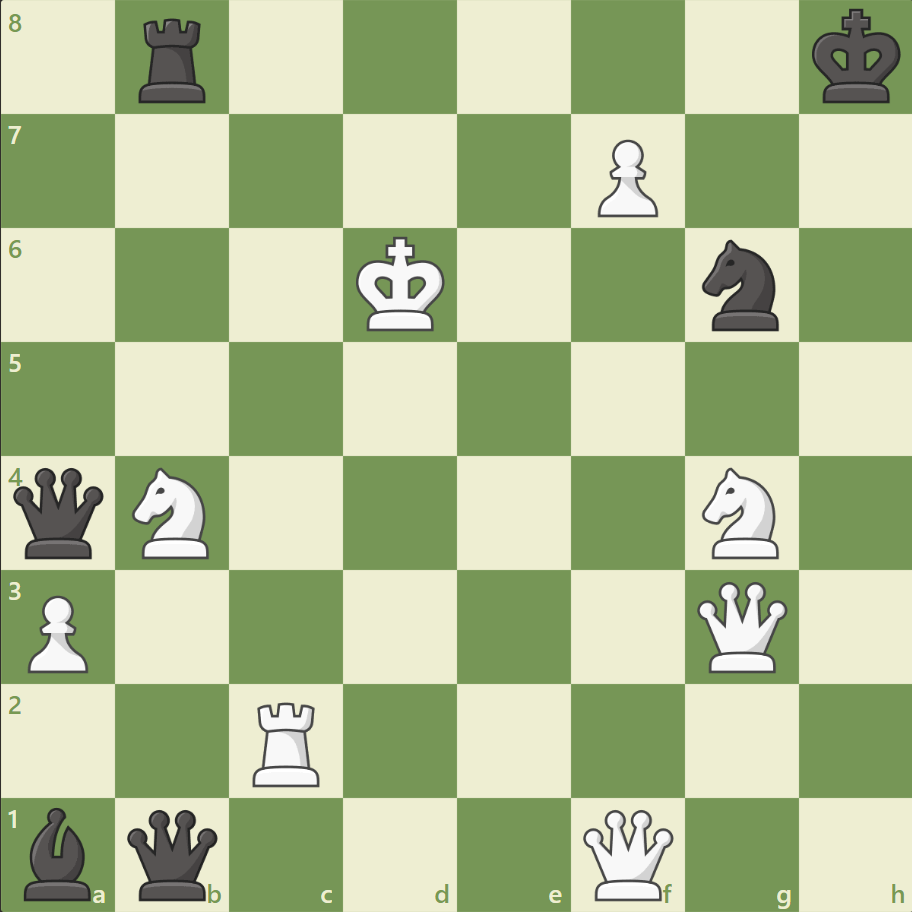K: (351, 231, 451, 339)
N: (124, 461, 222, 564), (692, 461, 789, 564)
P: (20, 586, 95, 677), (588, 132, 662, 223)
Q: (691, 576, 790, 676), (578, 804, 677, 903)
R: (246, 693, 329, 790)
b: (17, 801, 101, 904)
k: (806, 4, 906, 112)
n: (692, 234, 789, 337)
q: (10, 463, 109, 562), (124, 804, 223, 903)
r: (133, 12, 215, 109)
